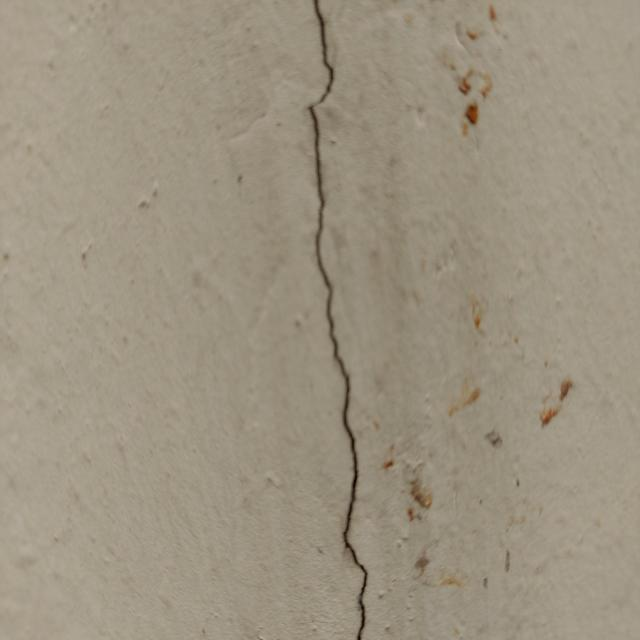SurfaceCrack: (263, 0, 410, 640)
